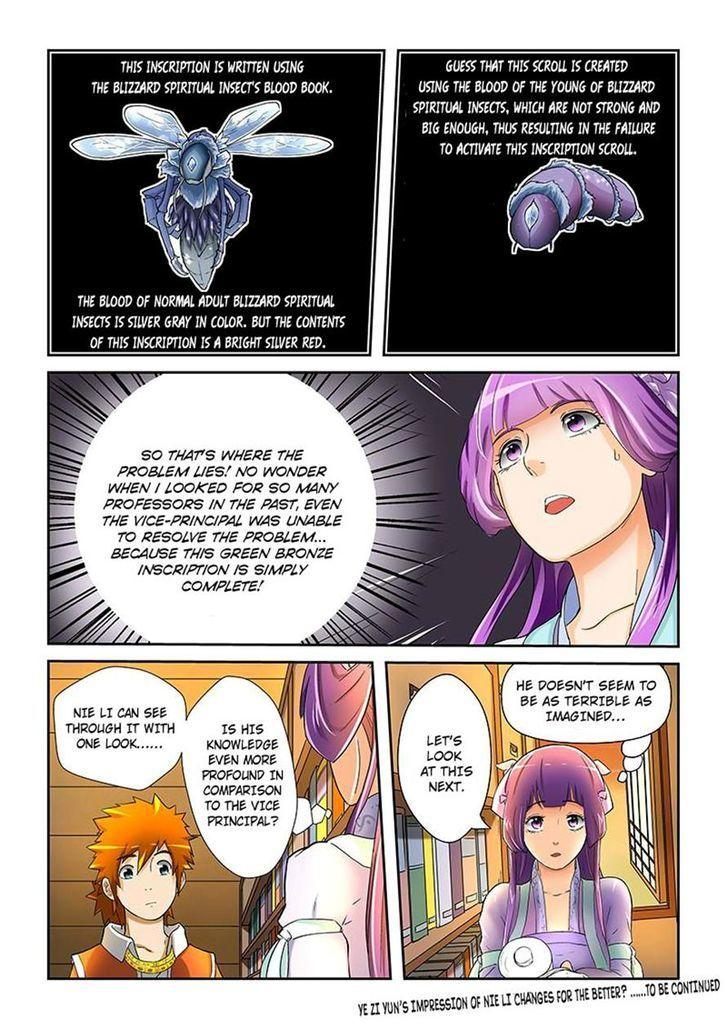Bubble: (73, 370, 379, 648), (186, 674, 299, 881), (396, 670, 493, 844), (52, 665, 182, 792), (499, 658, 673, 745)
